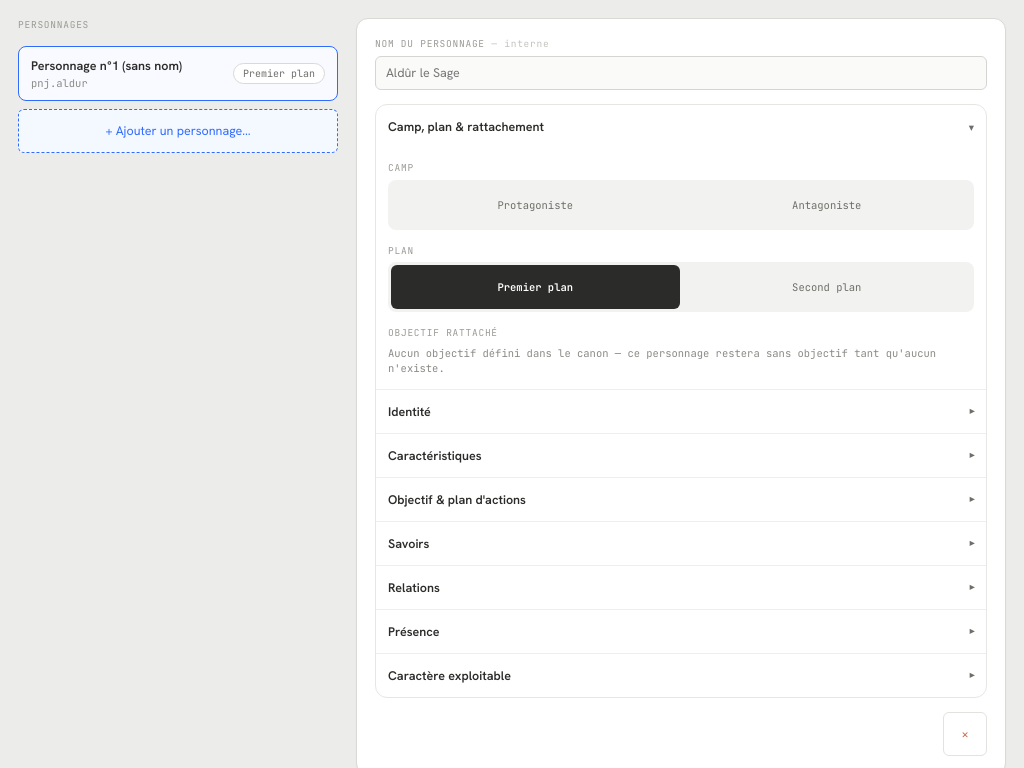
FichePersonnage - bloc Caracteristiques › bloc stats absent : seule la CTA, aucune ecriture au montage
Click the button "Caractéristiques ▾" at (435,455), box [376,433,986,477]
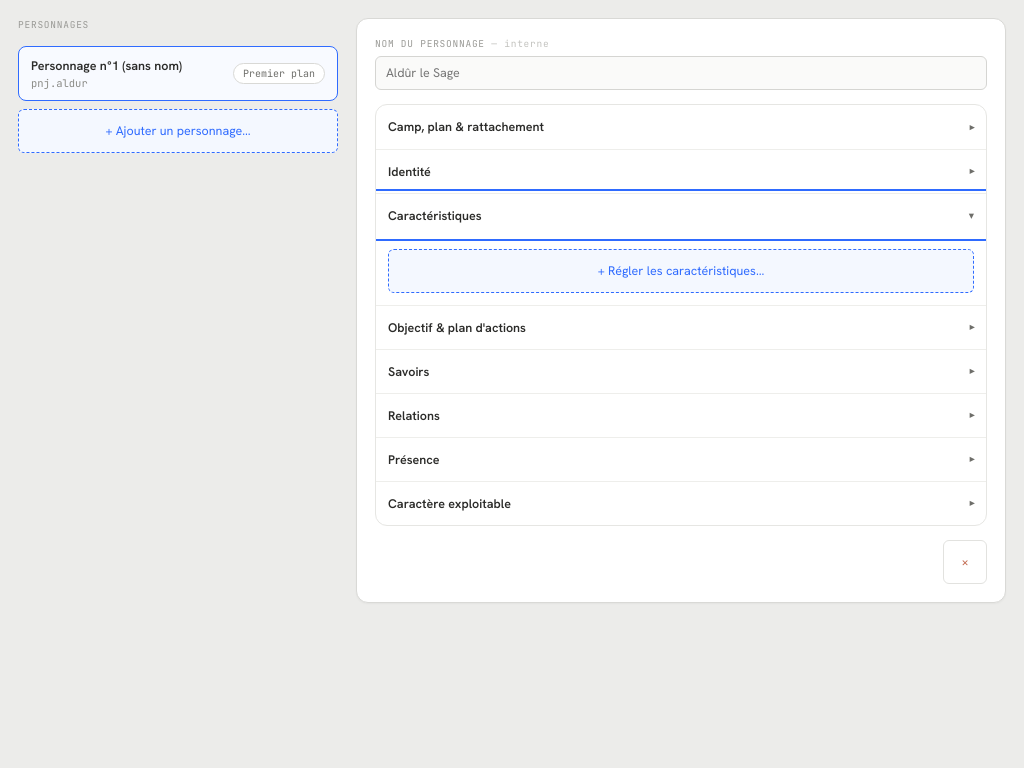
Expected: the number of buttons "+ Régler les caractéristiques…" is 1, [388,249,974,293]
